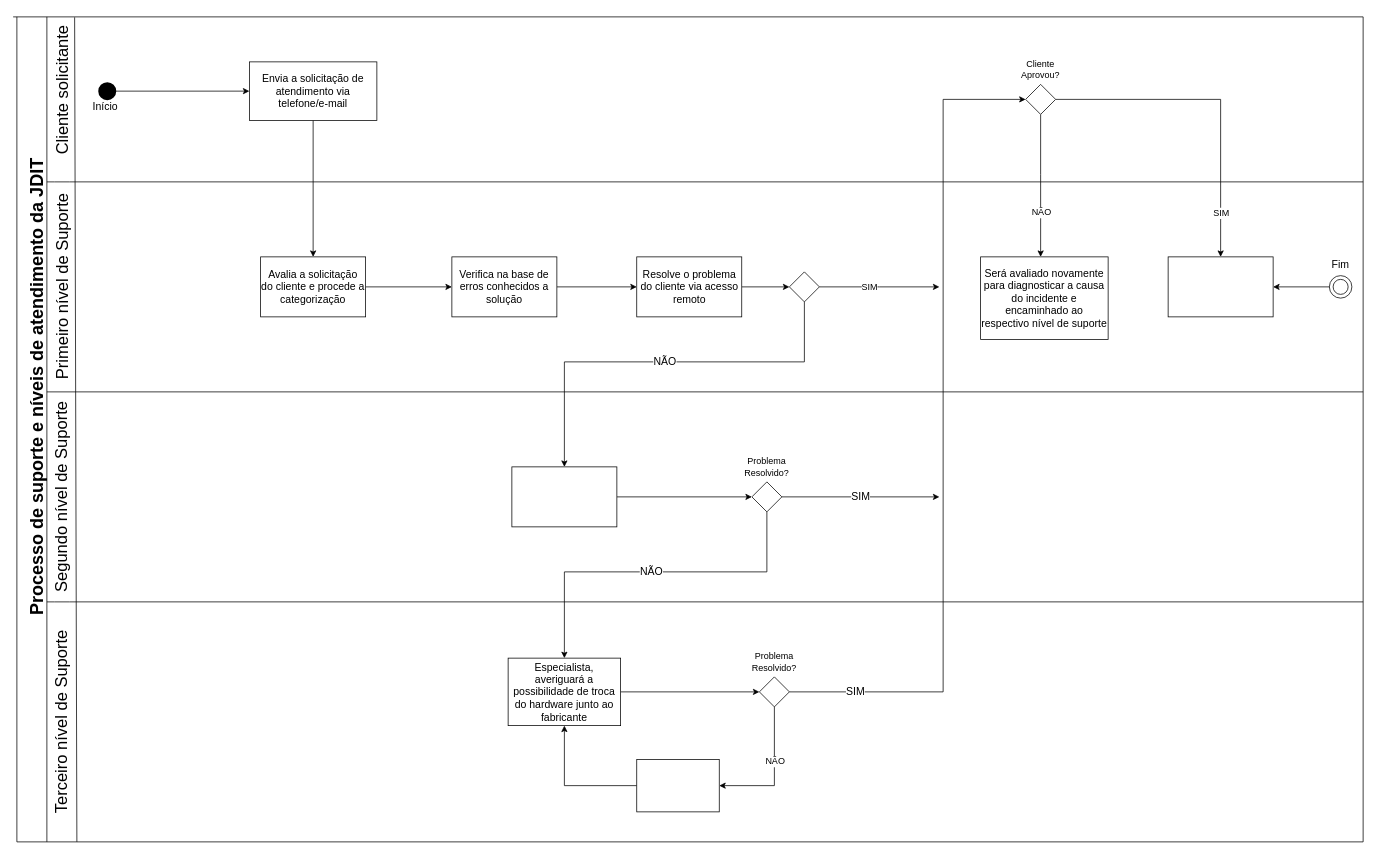
Image size: 1377x856. Some labels were removed from this diagram. The centre of each missing label's shape, as x and y in pixels:
Aplicar solução de contorno: the point at 677,785
Encerramento de Chamado (1°, 2° e 3° Nível): the point at 1220,286
Verifica se o problema é de configuração da rede: the point at 564,496
